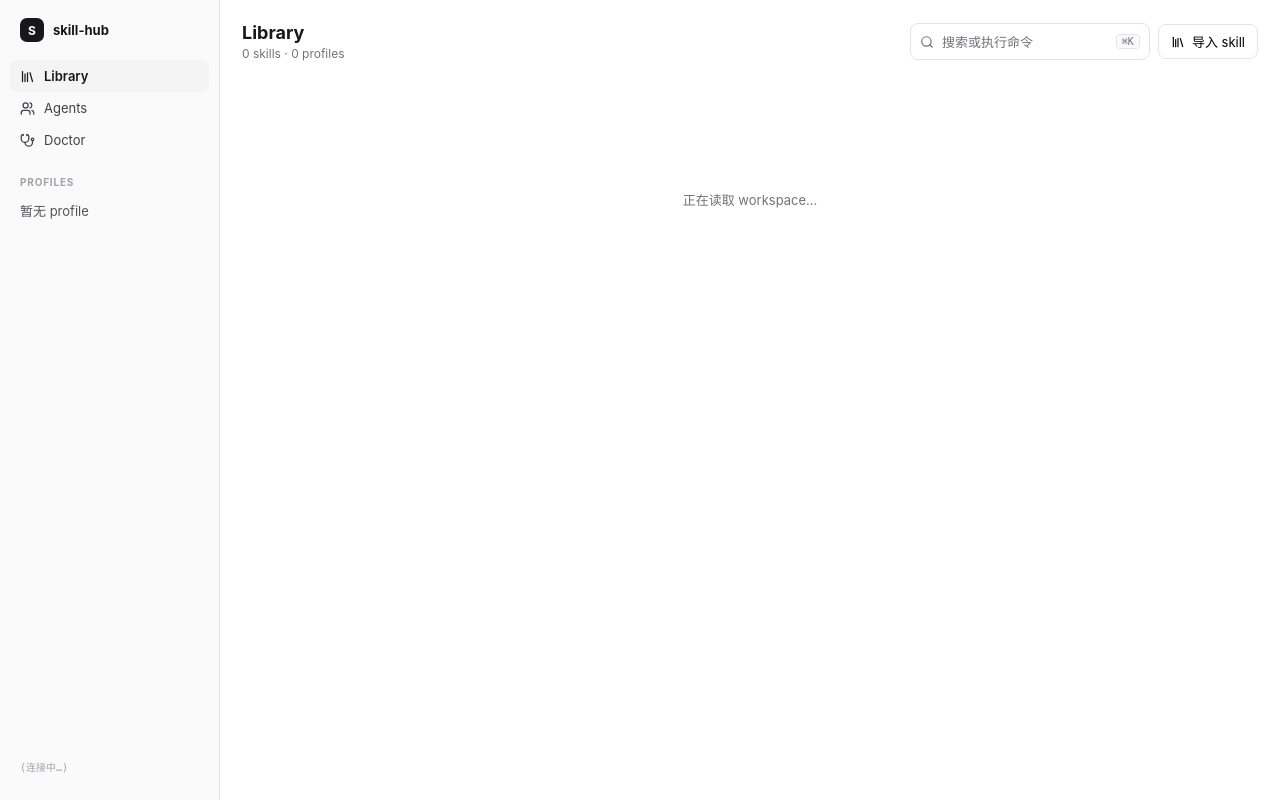
Test: view-scoped topbar actions and agent badge consistency › shows the import button only on Library, not on Agents or Doctor
Check: the button "导入 skill" is shown, box [1158,24,1258,59]
Click the button "Agents".
click(110, 108)  # box [10,92,209,124]
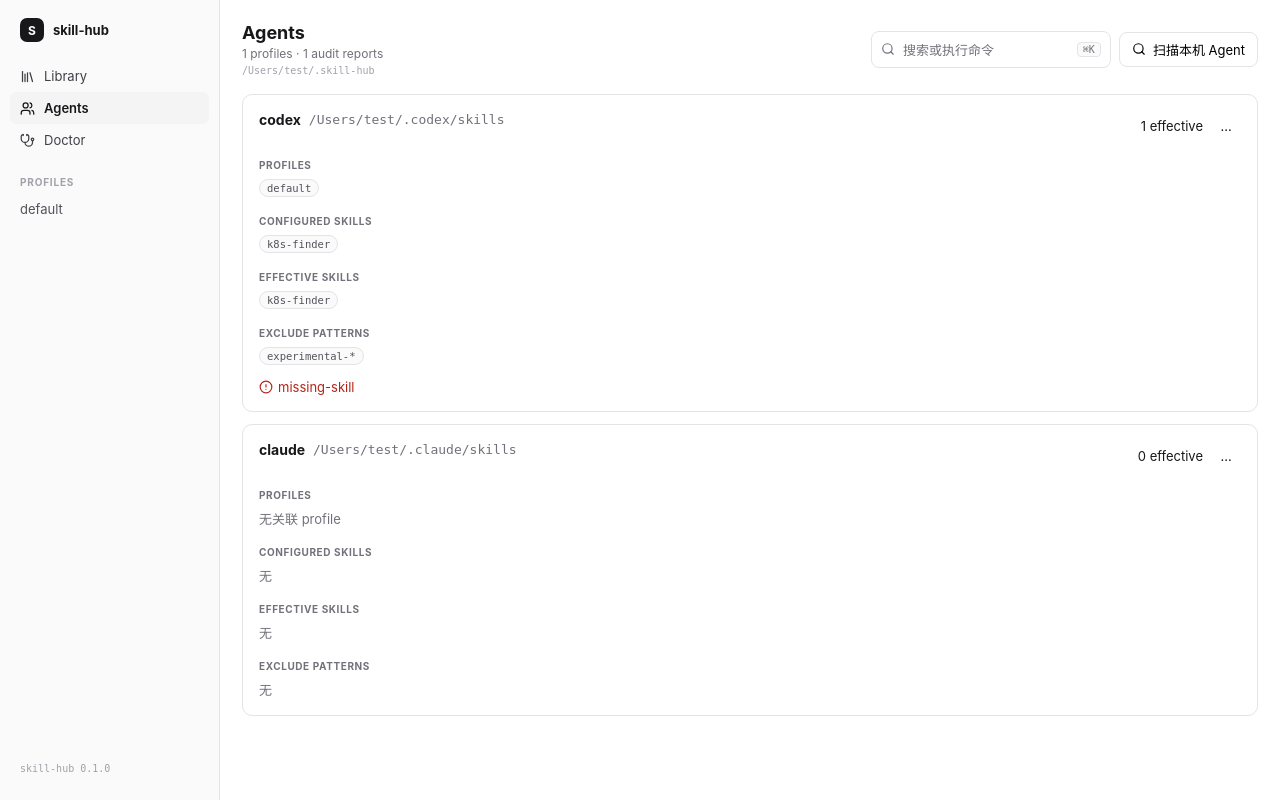
Check: the button "扫描本机 Agent" is shown, box [1119,32,1258,66]
Check: the button "导入 skill" is gone
Click the button "Doctor".
click(110, 140)  # box [10,124,209,156]
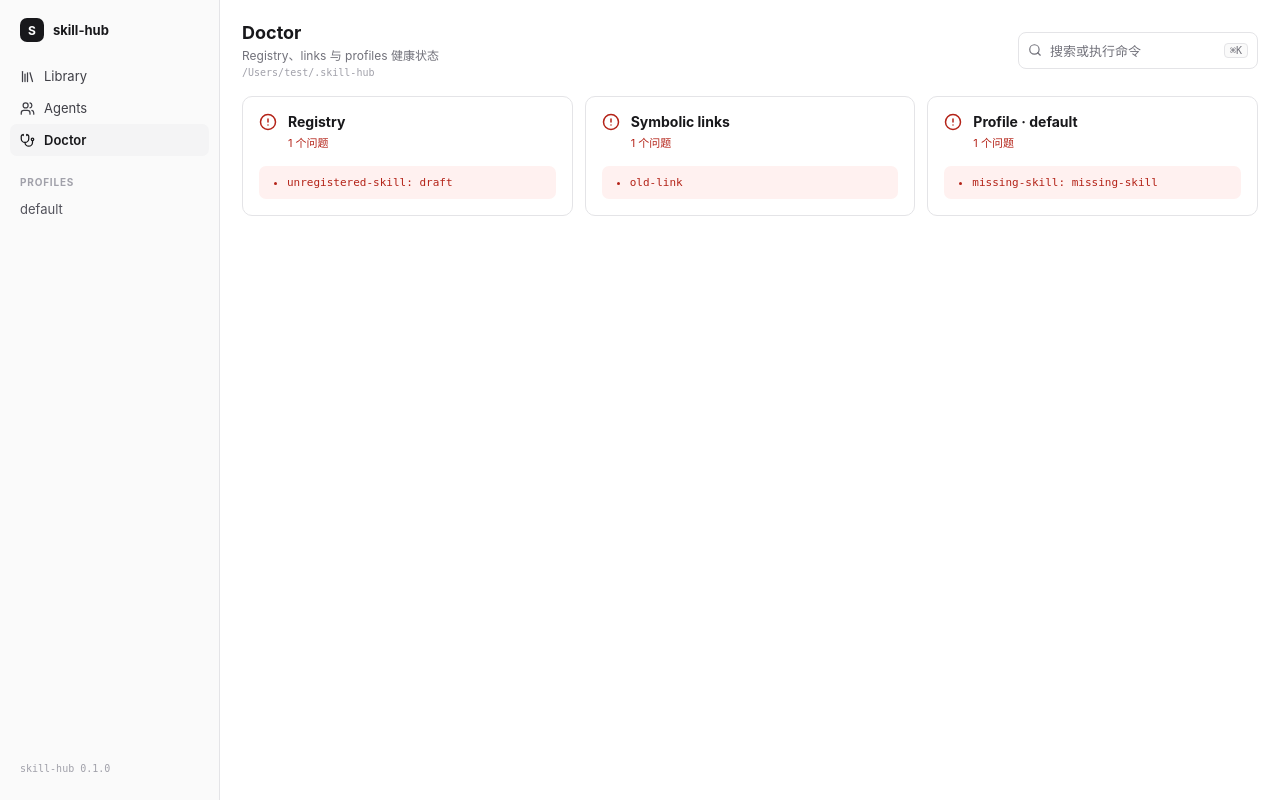
Check: the button "导入 skill" is not shown
Check: the list item "old-link" is shown, box [630,176,683,189]
Click the button "Library".
click(110, 76)  # box [10,60,209,92]
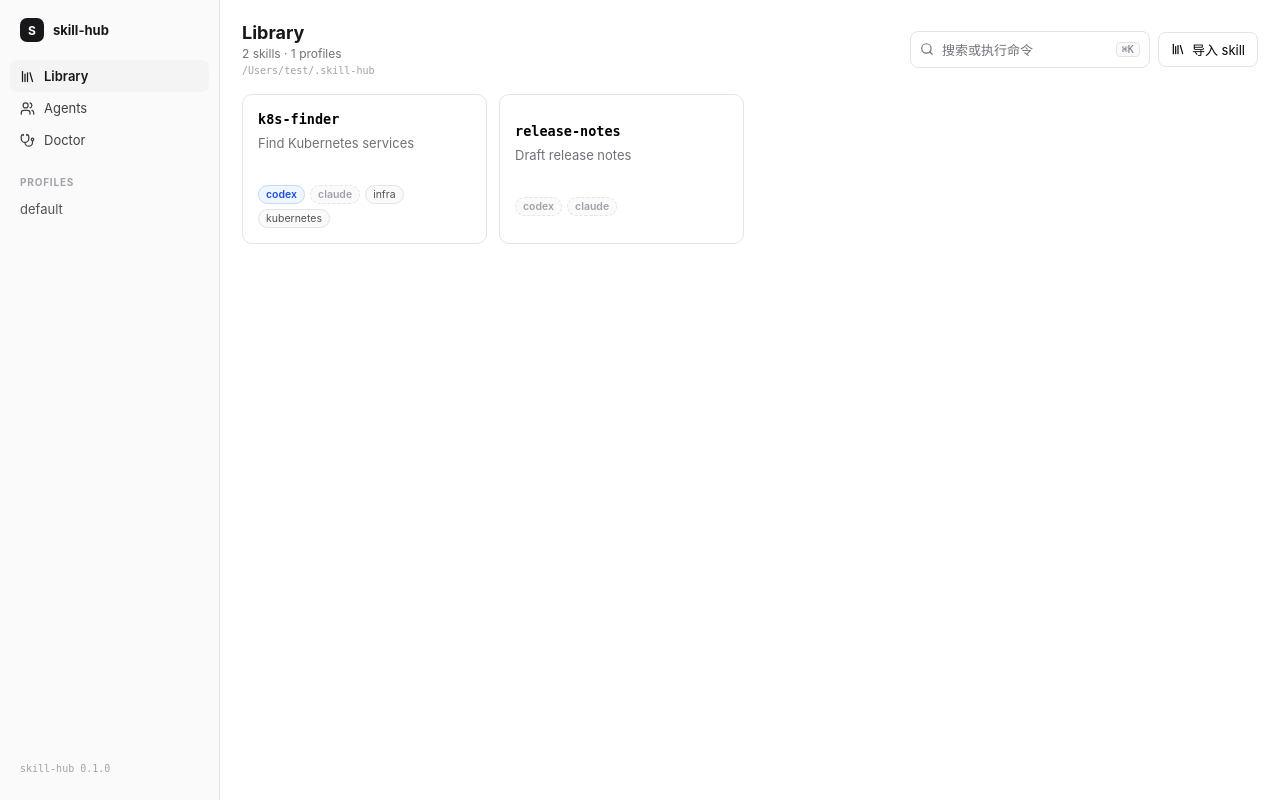
Check: the button "导入 skill" is shown, box [1158,32,1258,66]
